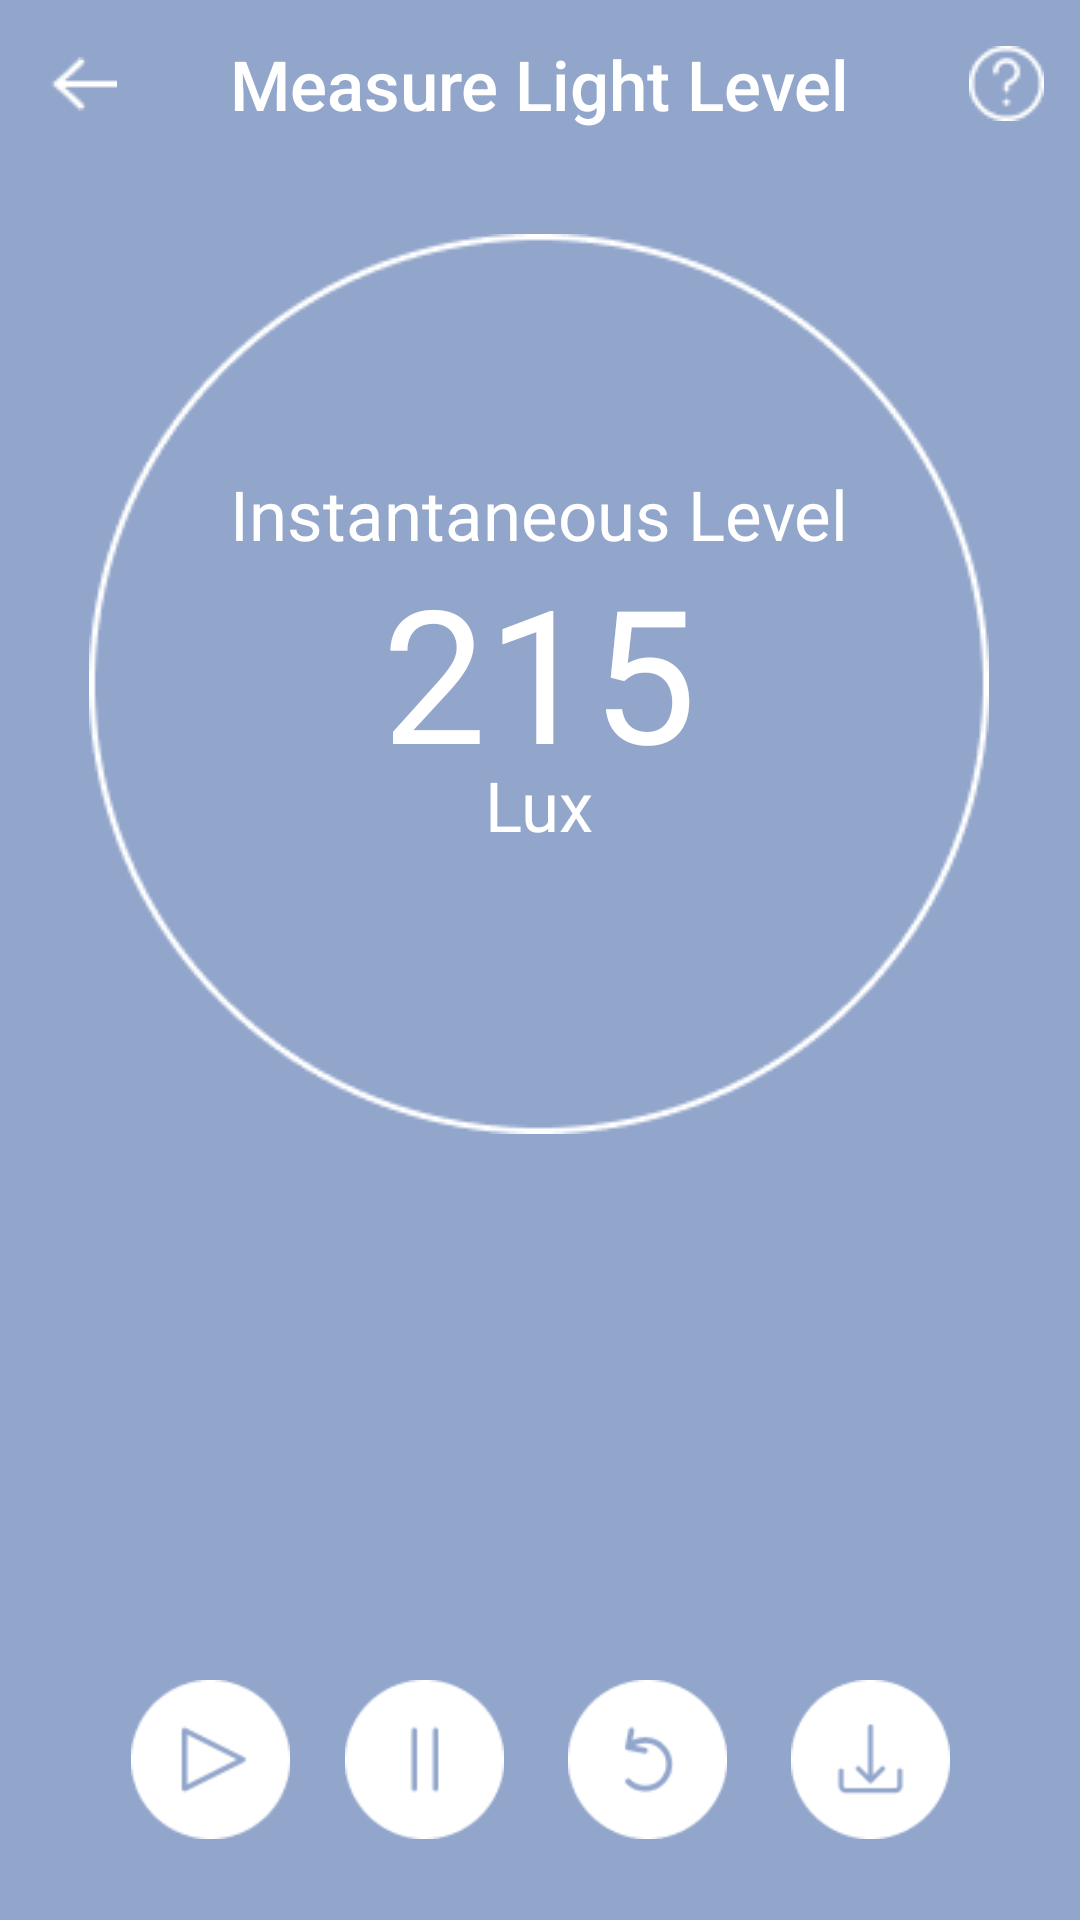

Named icons in this screenshot (1080*1920) and their centers, [x,y]:
Pause: [424,1759]
Reset: [647,1759]
Save: [870,1759]
Start: [210,1759]
